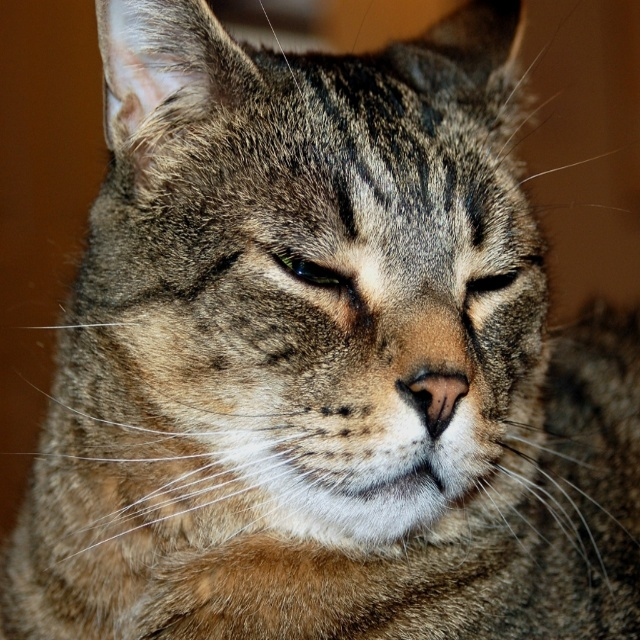Lynx: (3, 0, 639, 639)
